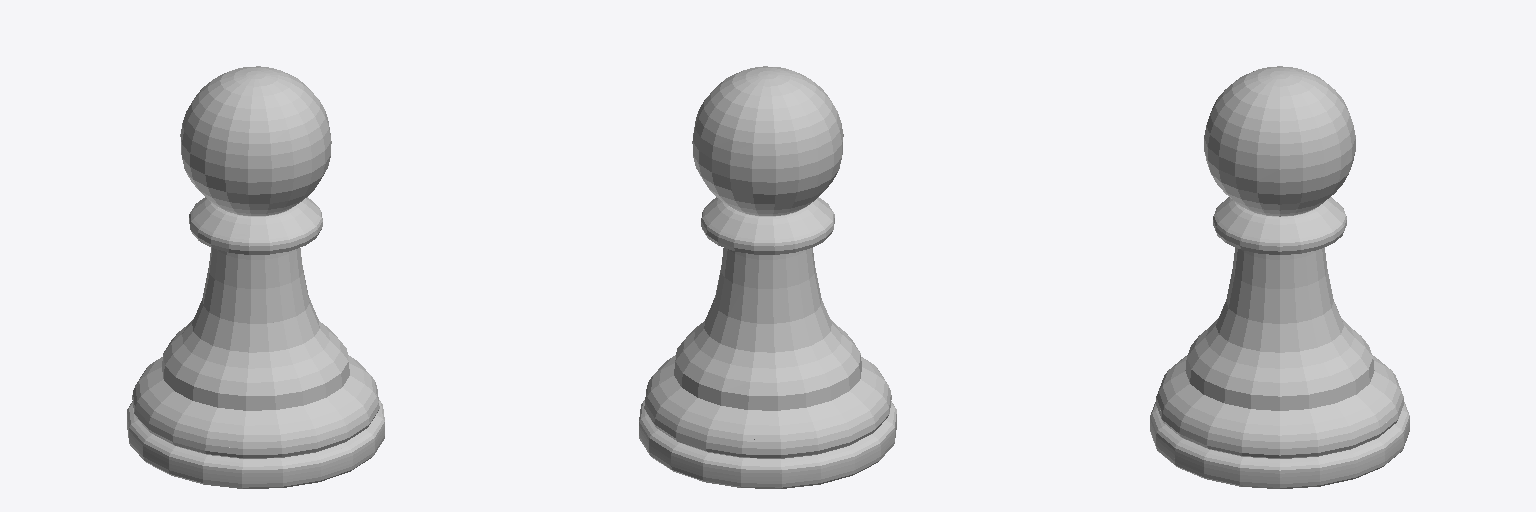
File: pawn_b_6.obj
3 views of the same model, side by side, from view 1: azimuth 30°, elevation 25°; view 2: azimuth 150°, elevation 25°; view 3: azimuth 270°, elevation 25° (orthographic).
Visible parts, largest first — view 1: pawn_b_6; view 2: pawn_b_6; view 3: pawn_b_6.
Part boxes in pixels (x1,y1,x2,y2): pawn_b_6: (127, 66, 384, 488); pawn_b_6: (639, 66, 896, 488); pawn_b_6: (1150, 66, 1409, 488).
Bounding box in the file's own units: 2.73 × 4.2 × 2.73.